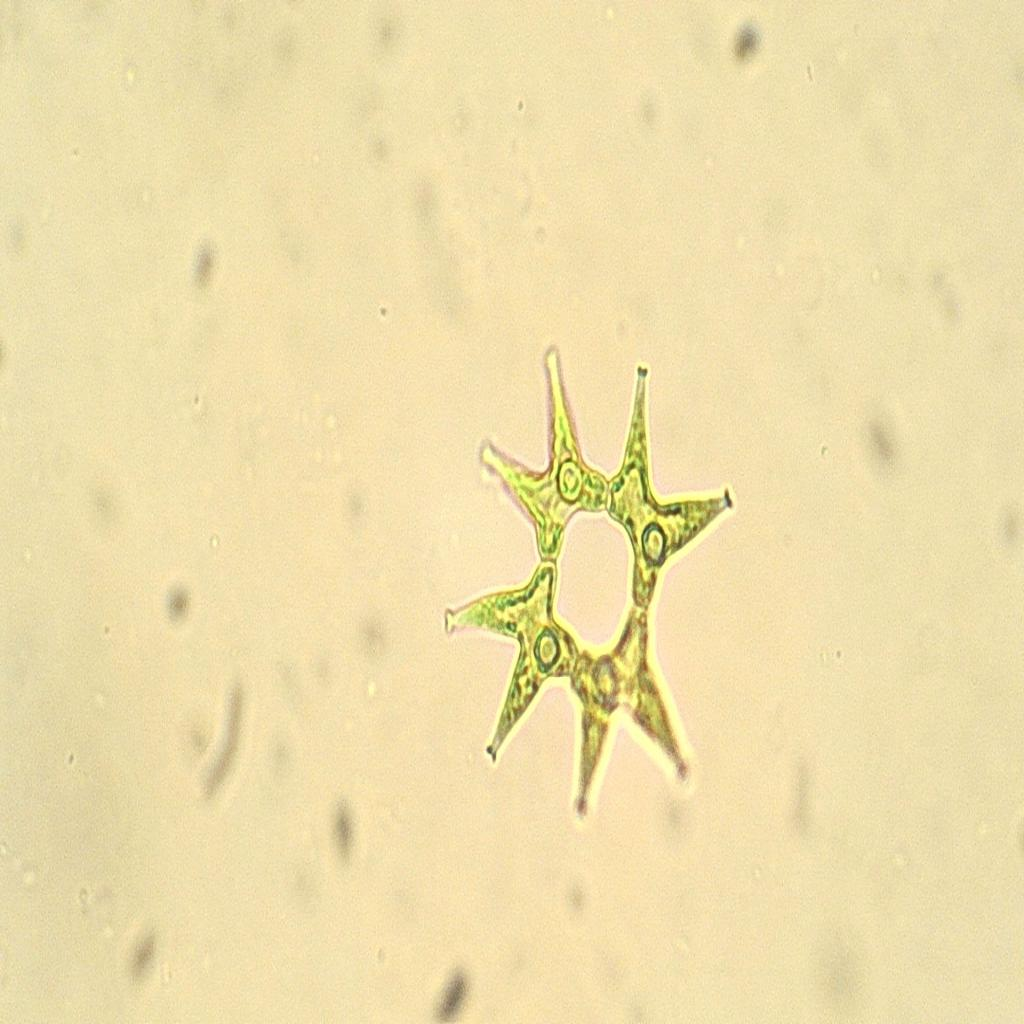Pediastrum_CO: (433, 309, 748, 832)
